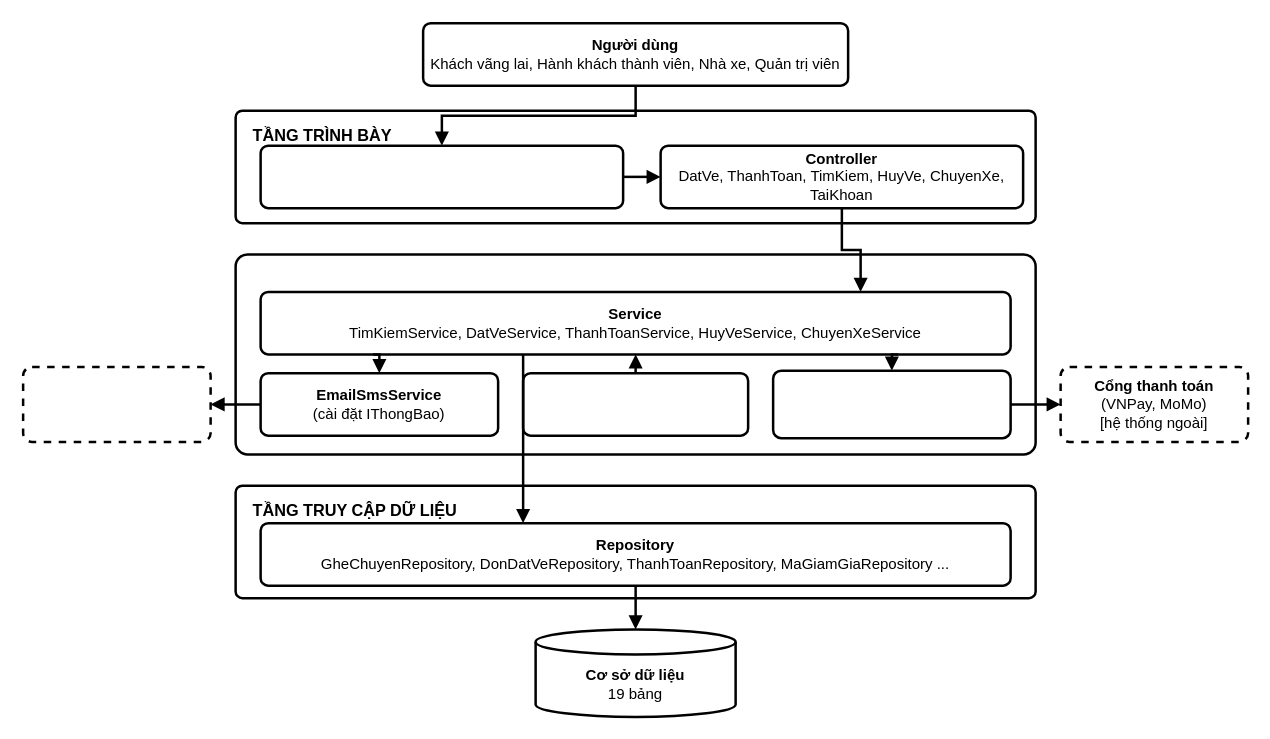
Some shapes in this 1270 by 739 pixel diagram are drawn without their labels. The box of each missing label's shape, as (x1, y1, x2, y2) in pixels:
Adapter VNPayAdapter, MoMoAdapter (cài đặt ICongThanhToan): (771, 369, 1011, 439)
Bộ lập lịch giải phóng đơn hết hạn mỗi phút: (521, 371, 749, 436)
Dịch vụ thông báo (Email / SMS) [hệ thống ngoài]: (21, 365, 211, 442)
Trang giao diện (web / ứng dụng, MH01–MH12): (259, 144, 624, 209)
TẦNG NGHIỆP VỤ: (234, 252, 1036, 455)
